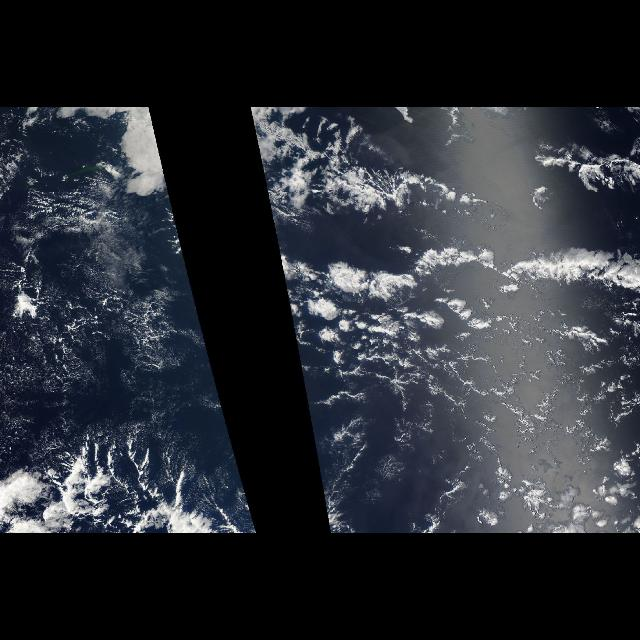Fish: (276, 242, 640, 314)
Flower: (287, 246, 489, 422)
Gravel: (315, 310, 637, 458)
Sugar: (5, 186, 209, 470)
